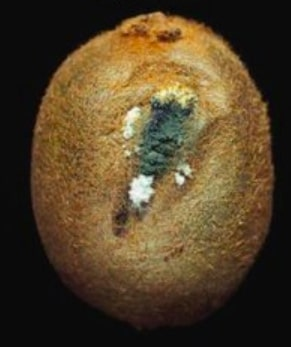damaged_kiwi: (42, 19, 268, 311)
